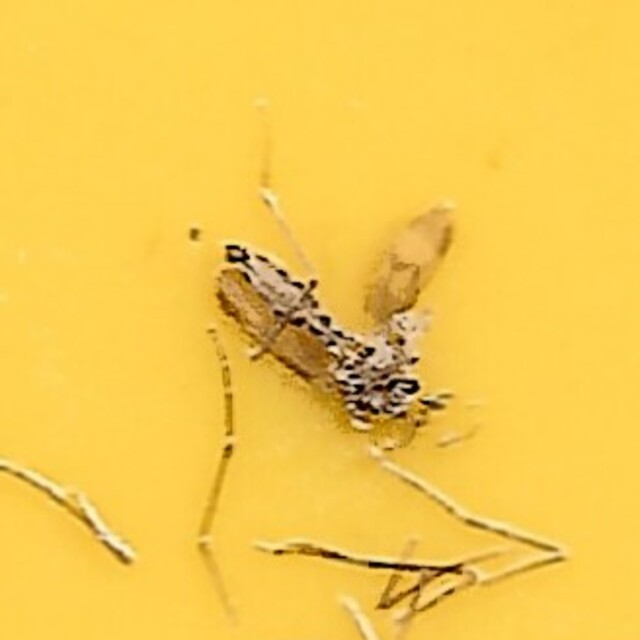Nematocera: (195, 204, 445, 436)
